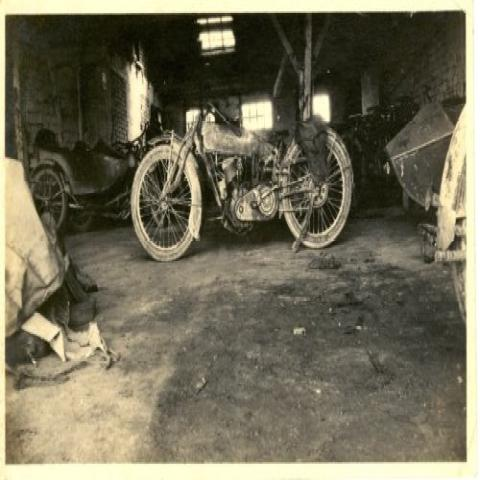motorcycle: (129, 100, 354, 262)
